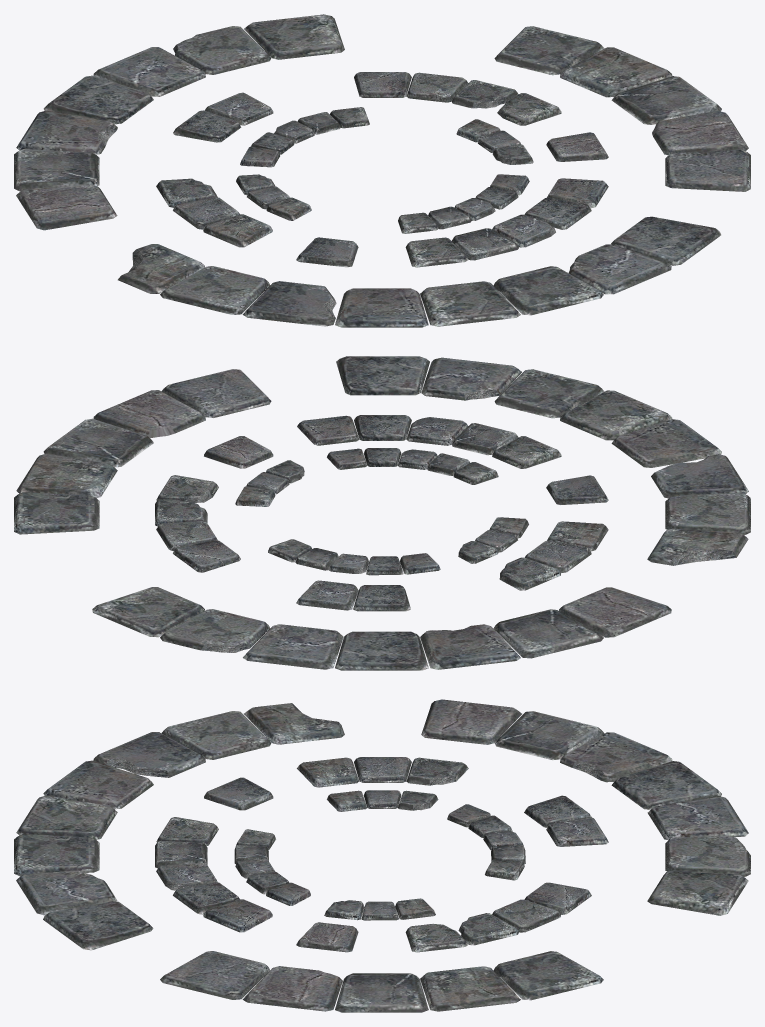
File: flame_bossroom_floor.fbx
The picture shows the model from 3 angles, top to bottom: view 1: azimuth 30°, elevation 25°; view 2: azimuth 150°, elevation 25°; view 3: azimuth 270°, elevation 25°; orthographic projection.
Visible parts, largest first — view 1: Object01; view 2: Object01; view 3: Object01.
Part boxes in pixels (<box>): Object01: <box>14,14,750,327</box>; Object01: <box>14,356,750,670</box>; Object01: <box>14,699,750,1012</box>.
Bounding box in the file's own units: 20.41 × 0.2135 × 20.47.
